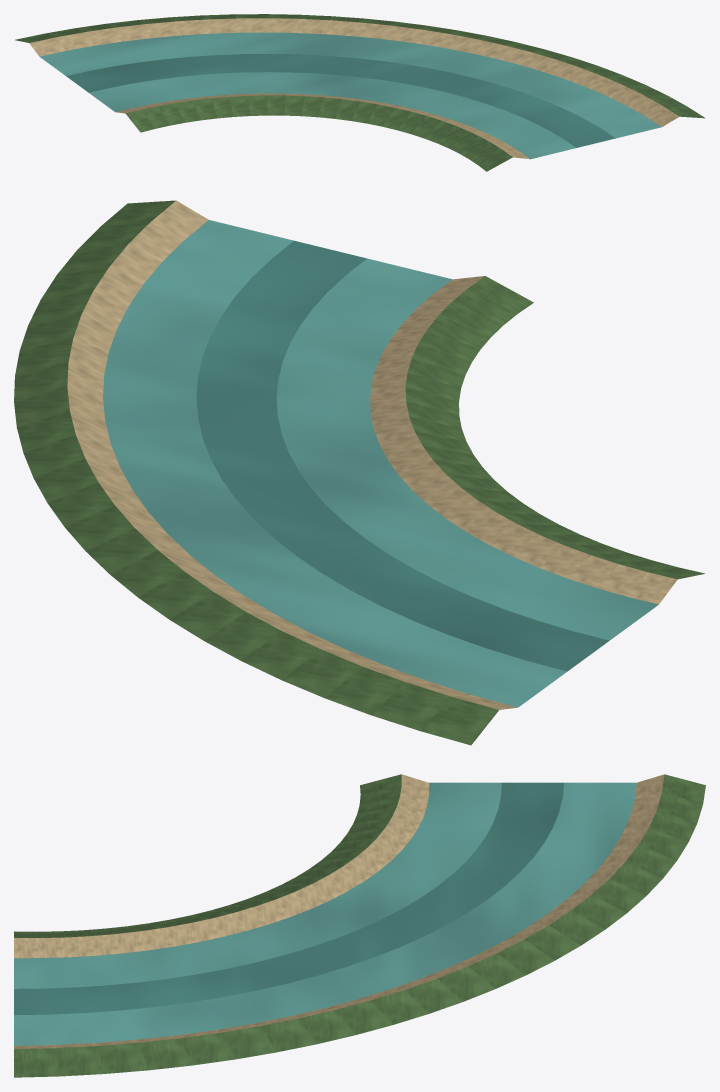
The model's file is river_curve_90.fbx.
3 renders of one model, top to bottom at view 1: azimuth 30°, elevation 25°; view 2: azimuth 150°, elevation 25°; view 3: azimuth 270°, elevation 25°, orthographic. The views are drawn at different scales.
Parts seen in each view (by area): view 1: river_curve_90; view 2: river_curve_90; view 3: river_curve_90.
Part boxes in pixels (x1=…): river_curve_90: x1=15, y1=14, x2=705, y2=171; river_curve_90: x1=14, y1=200, x2=704, y2=745; river_curve_90: x1=14, y1=774, x2=705, y2=1077.
Size of the model in its own units: 2000 by 35 by 2000.
Materials: 2 (2 with a texture image).
